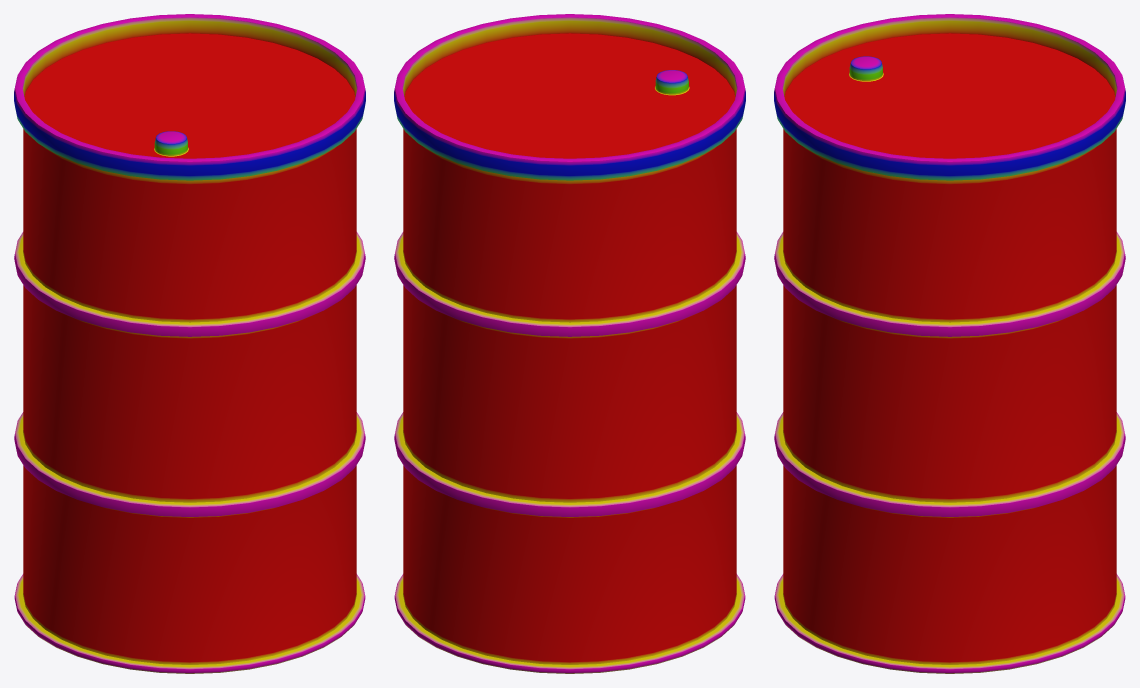
Rendered from Drum.fbx.
3 renders of one model, left to right at view 1: azimuth 30°, elevation 25°; view 2: azimuth 150°, elevation 25°; view 3: azimuth 270°, elevation 25°, orthographic.
Parts seen in each view (by area): view 1: Barrel_Drum; view 2: Barrel_Drum; view 3: Barrel_Drum.
Part boxes in pixels (x1,y1,x2,y2): Barrel_Drum: (14,14,365,673); Barrel_Drum: (394,14,745,673); Barrel_Drum: (774,14,1125,673).
Bounding box in the file's own units: 126 × 203 × 126.
